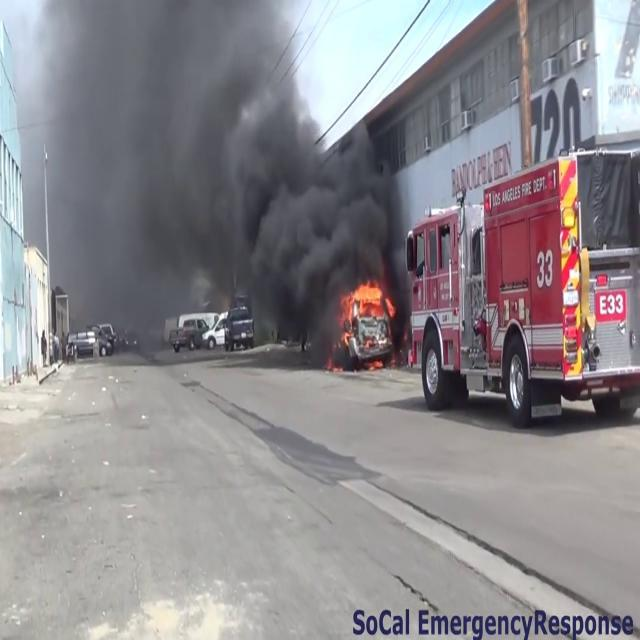Fire: (339, 275, 393, 321)
Smoke: (49, 0, 411, 340)
